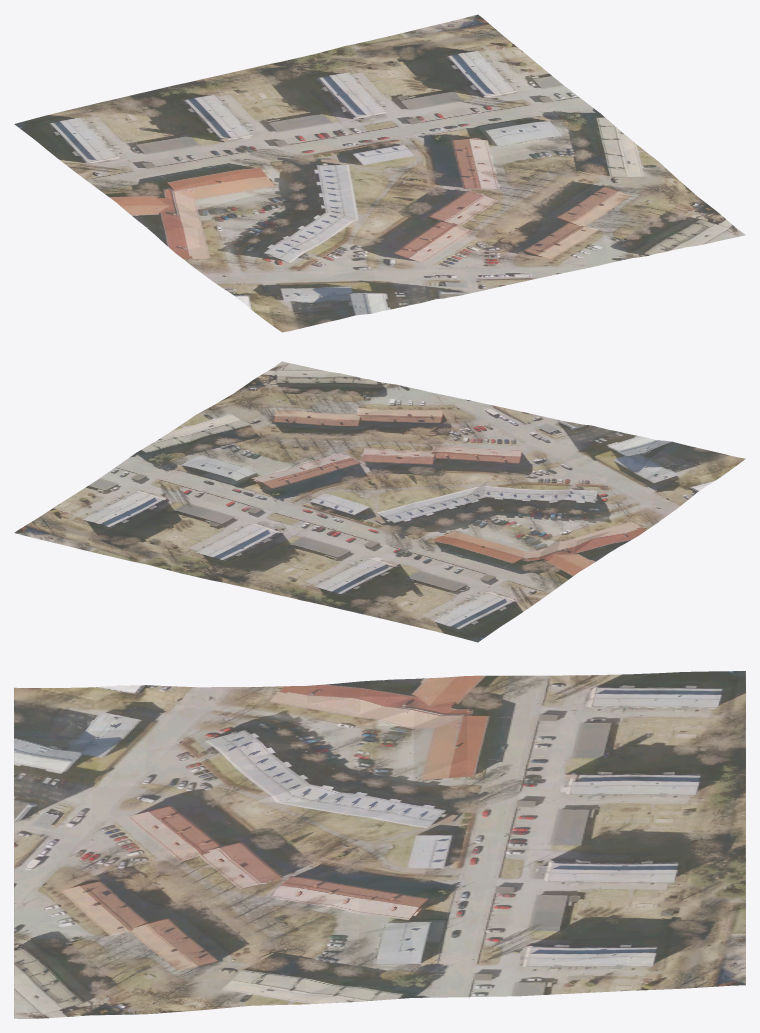
File: CM_Terrain_24489639_6820818.fbx
3 views of the same model, one above another, from view 1: azimuth 30°, elevation 25°; view 2: azimuth 150°, elevation 25°; view 3: azimuth 270°, elevation 25° (orthographic). The views are drawn at different scales.
Parts seen in each view (by area): view 1: CM_Terrain_24489639_6820818_LOD0; view 2: CM_Terrain_24489639_6820818_LOD0; view 3: CM_Terrain_24489639_6820818_LOD0.
Part boxes in pixels (box(x1,y1,x2,y2)): CM_Terrain_24489639_6820818_LOD0: box(14, 14, 745, 332); CM_Terrain_24489639_6820818_LOD0: box(14, 361, 745, 642); CM_Terrain_24489639_6820818_LOD0: box(14, 671, 745, 1018).
Size of what is drawn, in the model's own units: 205 by 12.25 by 205.
